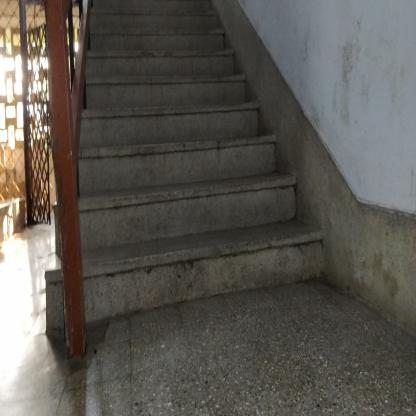stairs: (93, 11, 206, 323)
